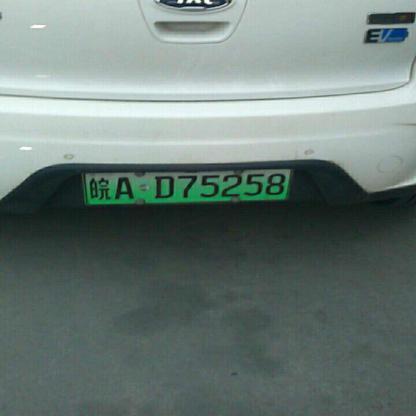lp: (84, 168, 292, 204)
